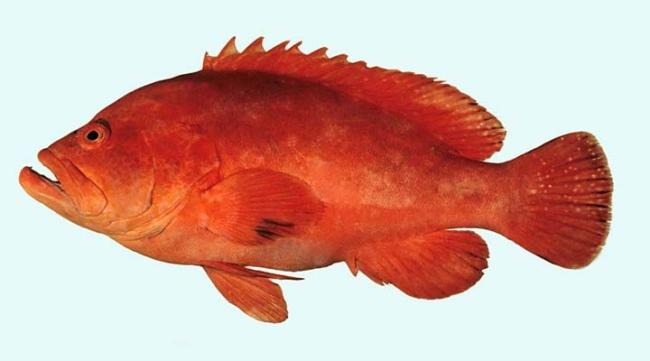fish: (20, 37, 615, 322)
